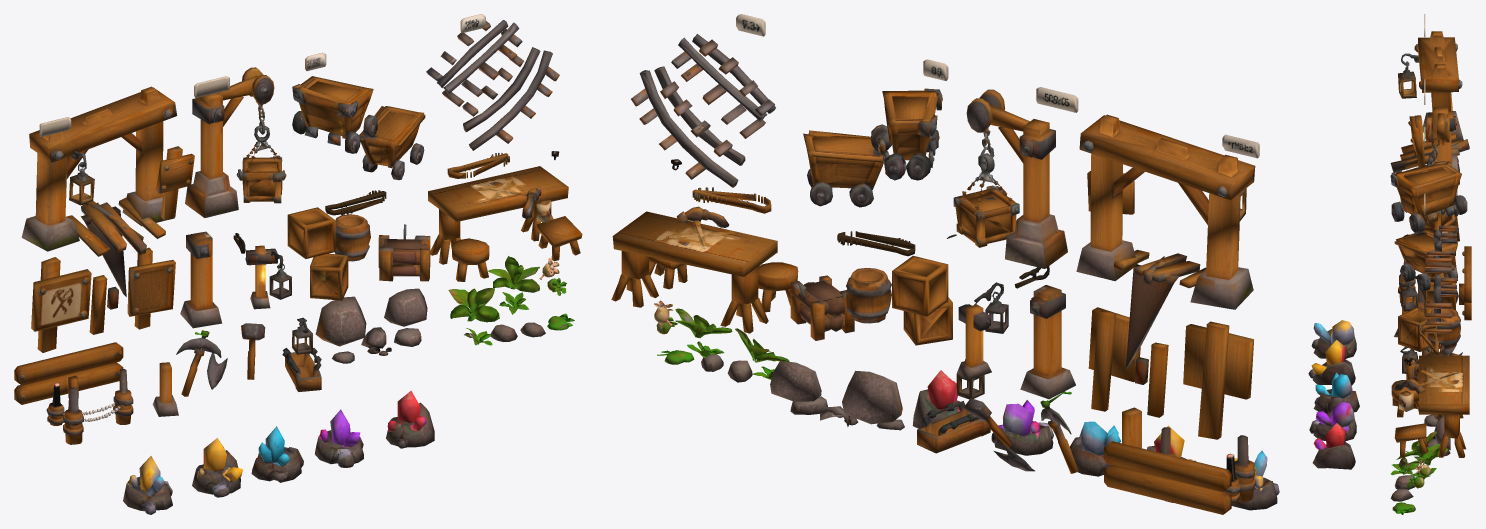
Rendered from tripo_convert_b80b9565-76f7-4ce5-b80a-dbef683ab524.fbx.
3 renders of one model, left to right at view 1: azimuth 30°, elevation 25°; view 2: azimuth 150°, elevation 25°; view 3: azimuth 270°, elevation 25°, orthographic. The views are drawn at different scales.
Visible parts, largest first — view 1: tripo_part_43, tripo_part_13, tripo_part_2, tripo_part_4, tripo_part_143, tripo_part_225, tripo_part_23, tripo_part_7, tripo_part_226, tripo_part_202, tripo_part_200, tripo_part_15 (+29 smaller); view 2: tripo_part_43, tripo_part_13, tripo_part_4, tripo_part_143, tripo_part_22, tripo_part_7, tripo_part_2, tripo_part_202, tripo_part_200, tripo_part_23, tripo_part_206, tripo_part_225 (+28 smaller); view 3: tripo_part_13, tripo_part_43, tripo_part_2, tripo_part_7, tripo_part_28, tripo_part_4, tripo_part_14, tripo_part_128, tripo_part_26, tripo_part_56, tripo_part_23, tripo_part_121 (+31 smaller).
Boxes of the visible parts, box(x1,y1,x2,y2) form: tripo_part_43: box(21, 86, 177, 251); tripo_part_13: box(241, 166, 582, 379); tripo_part_2: box(292, 76, 373, 145); tripo_part_4: box(66, 133, 167, 288); tripo_part_143: box(185, 93, 238, 217); tripo_part_225: box(31, 269, 91, 331); tripo_part_23: box(88, 179, 550, 334); tripo_part_7: box(359, 56, 559, 168); tripo_part_226: box(127, 260, 175, 316); tripo_part_202: box(180, 231, 222, 328); tripo_part_200: box(14, 342, 123, 385); tripo_part_15: box(378, 235, 430, 281); tripo_part_43: box(1076, 114, 1255, 309); tripo_part_13: box(612, 211, 1012, 447); tripo_part_4: box(1113, 167, 1208, 367); tripo_part_143: box(1005, 119, 1067, 268); tripo_part_22: box(1147, 321, 1229, 439); tripo_part_7: box(631, 81, 883, 189); tripo_part_2: box(878, 88, 942, 167); tripo_part_202: box(1020, 285, 1075, 399); tripo_part_200: box(1104, 441, 1231, 491); tripo_part_23: box(666, 209, 1171, 411); tripo_part_206: box(1104, 465, 1231, 514); tripo_part_225: box(1183, 324, 1253, 399); tripo_part_13: box(1394, 344, 1469, 454); tripo_part_43: box(1418, 31, 1463, 184); tripo_part_2: box(1390, 161, 1461, 223); tripo_part_7: box(1396, 229, 1457, 333); tripo_part_28: box(1398, 307, 1431, 351); tripo_part_4: box(1390, 53, 1469, 172); tripo_part_14: box(1425, 225, 1456, 272); tripo_part_128: box(1312, 441, 1355, 469); tripo_part_26: box(1427, 308, 1460, 349); tripo_part_56: box(1394, 232, 1457, 274); tripo_part_23: box(1394, 225, 1459, 411); tripo_part_121: box(1312, 359, 1355, 385).
Bounding box in the file's own units: 1 × 0.6477 × 0.3033.
1 material, 1 textured.
